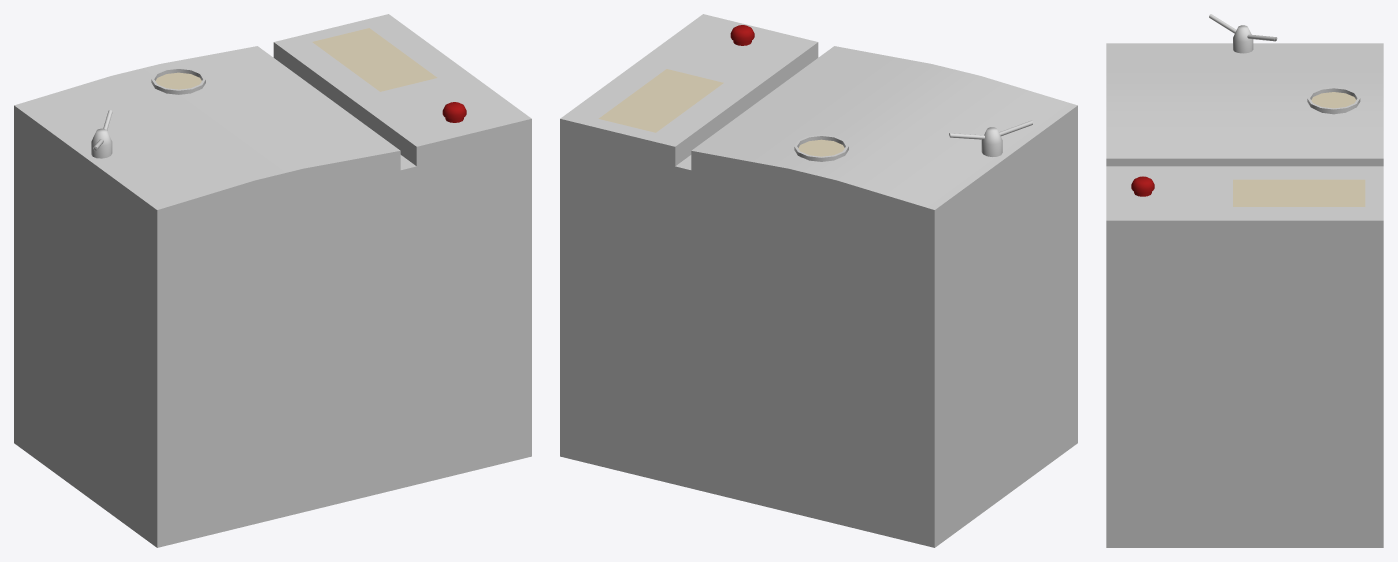
3 views of the same model, side by side, from view 1: azimuth 30°, elevation 25°; view 2: azimuth 150°, elevation 25°; view 3: azimuth 270°, elevation 25° (orthographic). The views are drawn at different scales.
Parts seen in each view (by area): view 1: Cube; view 2: Cube; view 3: Cube.
Boxes of the visible parts, x1=… form: Cube: x1=14, y1=14, x2=531, y2=547; Cube: x1=560, y1=14, x2=1077, y2=547; Cube: x1=1106, y1=14, x2=1383, y2=547.
Size of the model in its own units: 66.69 by 60.35 by 43.
